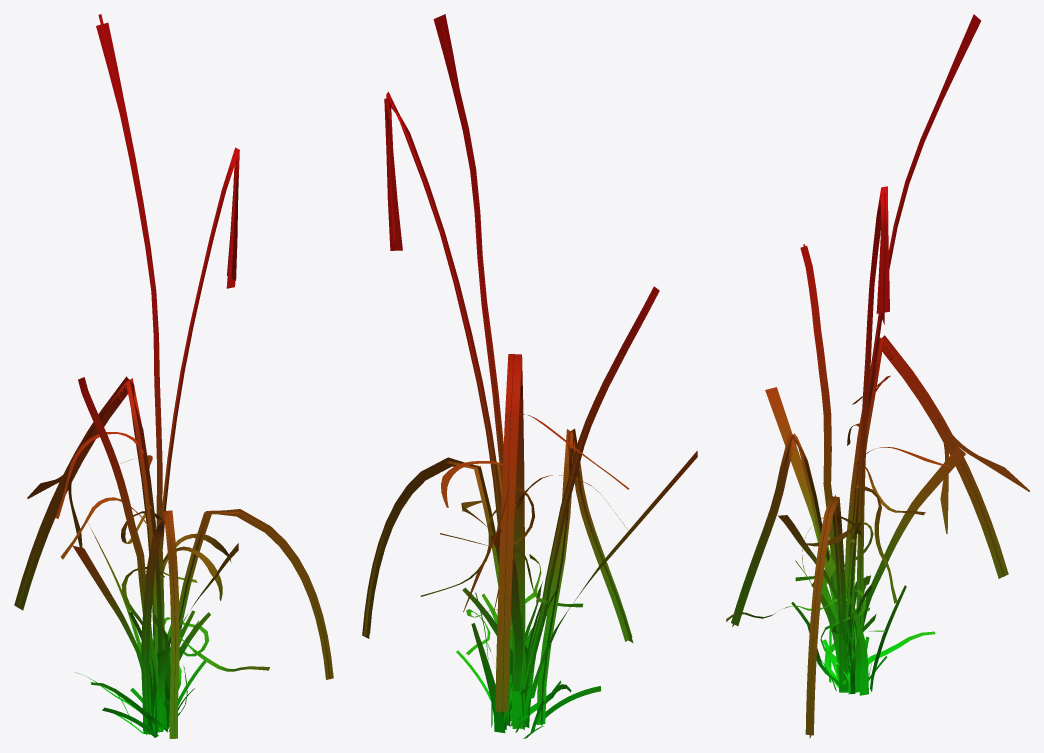
Rendered from tcfoejcr_Var6_LOD0.fbx.
3 renders of one model, left to right at view 1: azimuth 30°, elevation 25°; view 2: azimuth 150°, elevation 25°; view 3: azimuth 270°, elevation 25°, orthographic. The views are drawn at different scales.
Visible parts, largest first — view 1: _2a71_Var6_LOD0; view 2: _2a71_Var6_LOD0; view 3: _2a71_Var6_LOD0.
Boxes of the visible parts, x1=… form: _2a71_Var6_LOD0: x1=14, y1=14, x2=333, y2=738; _2a71_Var6_LOD0: x1=362, y1=14, x2=697, y2=738; _2a71_Var6_LOD0: x1=726, y1=14, x2=1029, y2=738.
Bounding box in the file's own units: 25.4 × 58.85 × 23.79.
